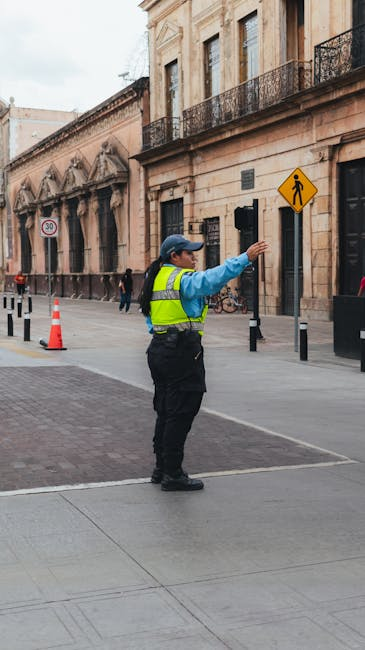traffic_cone: (44, 298, 67, 351)
